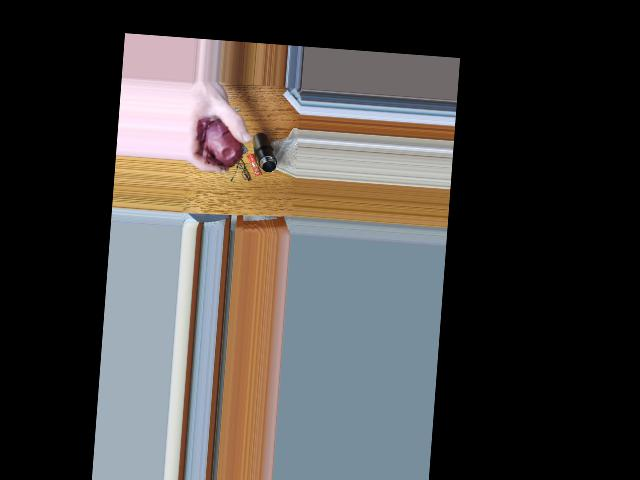onion: (198, 113, 243, 168)
